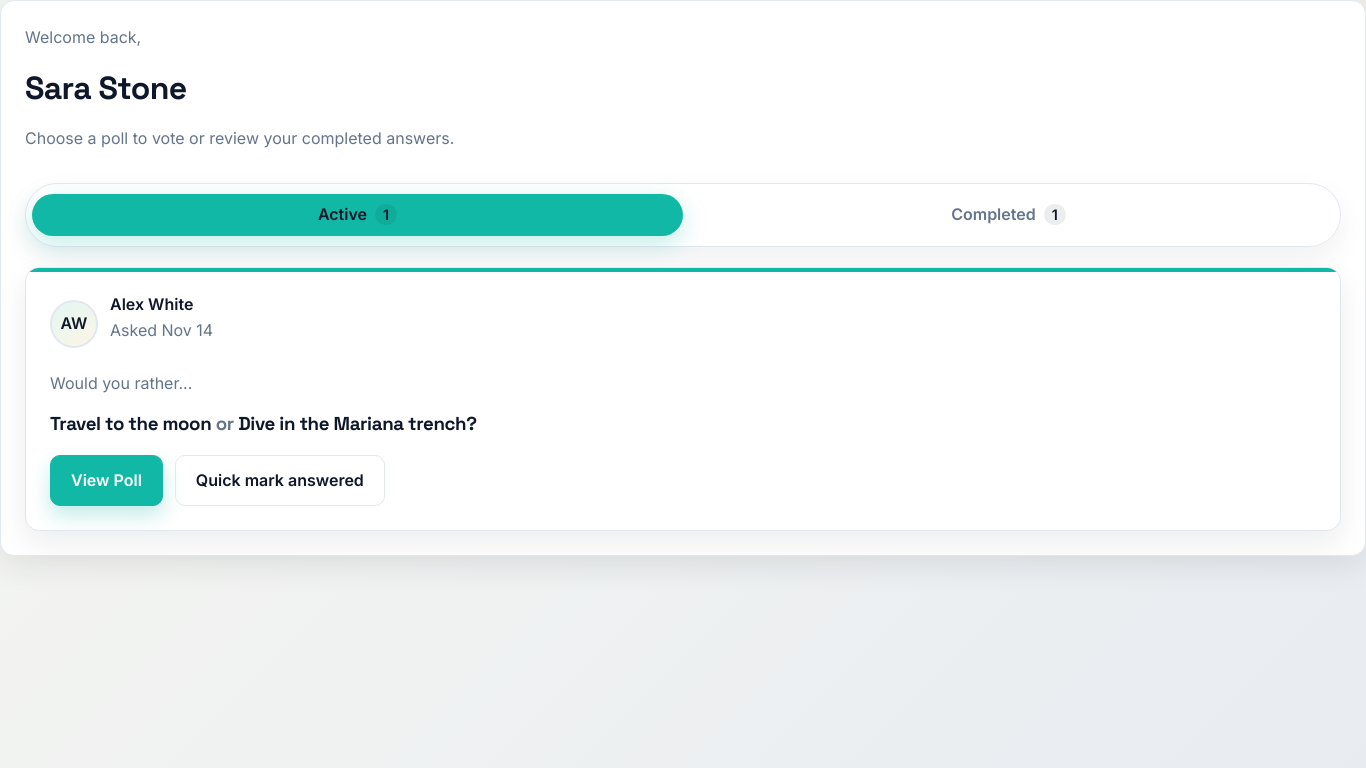
Home page › switches to completed tab and lists answered polls
Click the tab "Completed1".
click(1008, 215)  # box left=683, top=190, right=1334, bottom=240
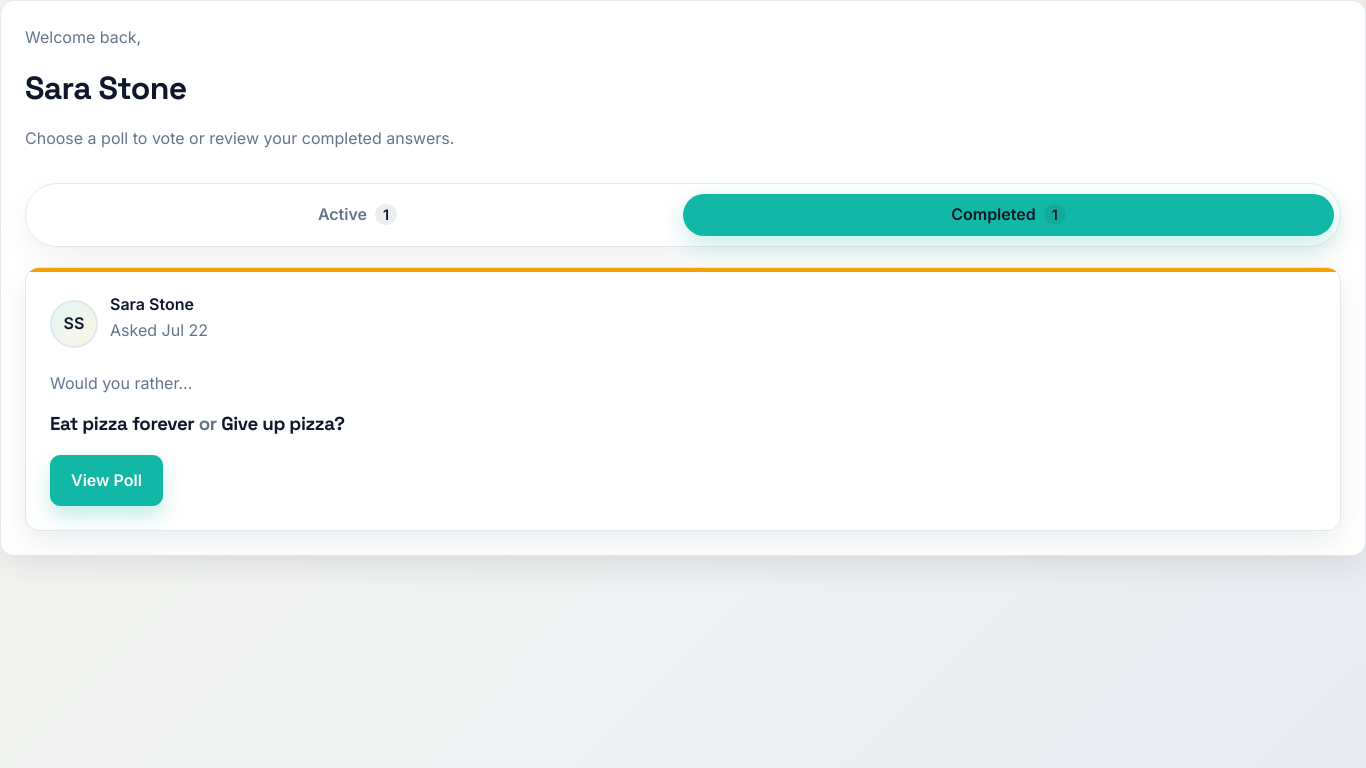
expect the heading "Eat pizza forever or Give up pizza?" is shown: met, box left=50, top=412, right=345, bottom=435
expect the heading "Travel to the moon" is gone: met
